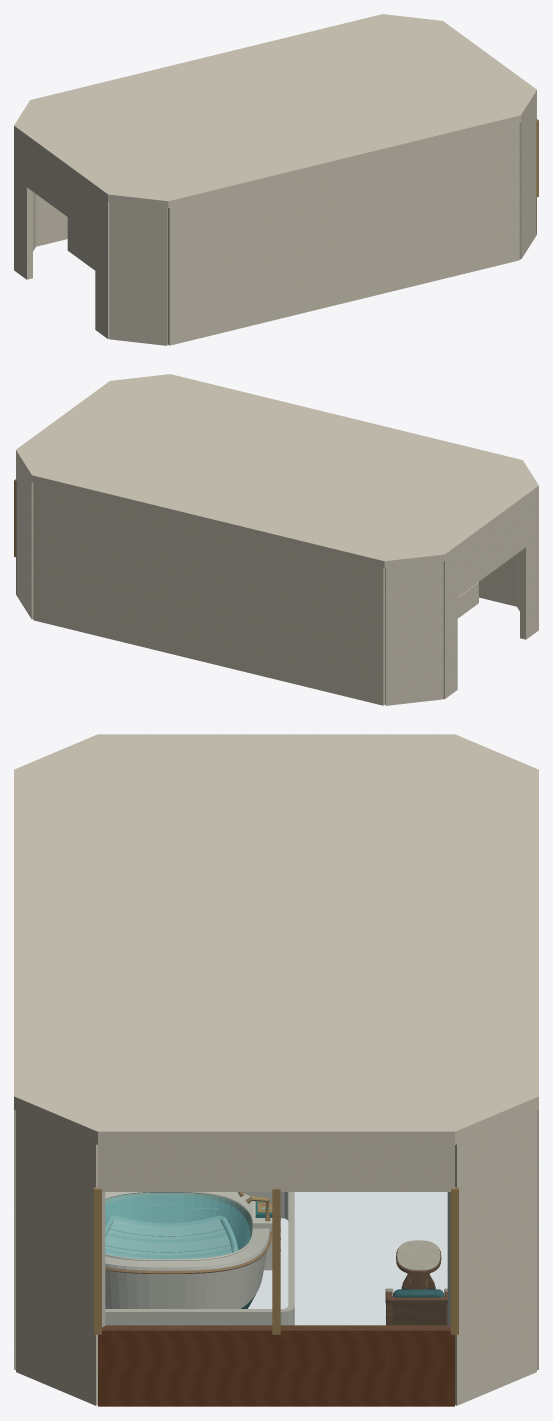
The model's file is D04_PORT_FORWARD_HOME_988_r001.glb.
The picture shows the model from 3 angles, top to bottom: view 1: azimuth 30°, elevation 25°; view 2: azimuth 150°, elevation 25°; view 3: azimuth 270°, elevation 25°; orthographic projection. The views are drawn at different scales.
Visible parts, largest first — view 1: D04H988_Roof, D04H988_Shell_3, D04H988_Shell_2, D04H988_EntryHeader, D04H988_Shell_4, D04H988_EntryWall_0, D04H988_EntryWall_1, D04H988_Shell_7, D04H988_BathDogleg; view 2: D04H988_Roof, D04H988_Shell_7, D04H988_Shell_0, D04H988_EntryHeader, D04H988_Shell_6, D04H988_EntryWall_1, D04H988_EntryWall_0, D04H988_Shell_3, D04H988_AquaticBasinRim_0; view 3: D04H988_Roof, D04H988_GardenGlass, D04H988_GardenDado, D04H988_Shell_4, D04H988_Shell_6, D04H988_GardenHead, D04H988_ReservedAquaticRest_2__Hollow continuous basin shell, D04H988_ReservedAquaticRest_2__WaterSurface_VisualOnly, D04H988_ReservedAquaticRest_2__Contoured broad immersed rest, D04H988_AquaticBasinRim_1, D04H988_DryTransferChair__DAY_CHAIR_reclined_back_cross_shel, D04H988_WindowMullion_1 (+3 smaller).
Boxes of the visible parts, bbox=[...] form: D04H988_Roof: bbox=[14, 14, 536, 208]; D04H988_Shell_3: bbox=[168, 122, 519, 345]; D04H988_Shell_2: bbox=[109, 201, 167, 345]; D04H988_EntryHeader: bbox=[27, 142, 95, 236]; D04H988_Shell_4: bbox=[519, 98, 536, 259]; D04H988_EntryWall_0: bbox=[14, 133, 32, 279]; D04H988_EntryWall_1: bbox=[95, 192, 109, 338]; D04H988_Shell_7: bbox=[36, 194, 67, 246]; D04H988_BathDogleg: bbox=[67, 217, 95, 270]; D04H988_Roof: bbox=[16, 374, 538, 568]; D04H988_Shell_7: bbox=[33, 482, 384, 705]; D04H988_Shell_0: bbox=[385, 561, 443, 705]; D04H988_EntryHeader: bbox=[457, 502, 525, 596]; D04H988_Shell_6: bbox=[16, 458, 33, 619]; D04H988_EntryWall_1: bbox=[520, 493, 538, 639]; D04H988_EntryWall_0: bbox=[443, 552, 457, 698]; D04H988_Shell_3: bbox=[479, 554, 516, 606]; D04H988_AquaticBasinRim_0: bbox=[457, 582, 478, 618]; D04H988_Roof: bbox=[14, 734, 538, 1144]; D04H988_GardenGlass: bbox=[102, 1192, 450, 1330]; D04H988_GardenDado: bbox=[98, 1325, 454, 1406]; D04H988_Shell_4: bbox=[16, 1110, 105, 1405]; D04H988_Shell_6: bbox=[447, 1110, 536, 1405]; D04H988_GardenHead: bbox=[98, 1145, 454, 1191]; D04H988_ReservedAquaticRest_2__Hollow continuous basin shell: bbox=[105, 1192, 269, 1308]; D04H988_ReservedAquaticRest_2__WaterSurface_VisualOnly: bbox=[105, 1196, 249, 1258]; D04H988_ReservedAquaticRest_2__Contoured broad immersed rest: bbox=[105, 1216, 231, 1259]; D04H988_AquaticBasinRim_1: bbox=[105, 1192, 294, 1325]; D04H988_DryTransferChair__DAY_CHAIR_reclined_back_cross_shel: bbox=[387, 1297, 447, 1325]; D04H988_WindowMullion_1: bbox=[272, 1188, 280, 1334].
Size of the model in its own units: 12.93 by 4.16 by 7.2.
Materials: 50 (20 with a texture image).
